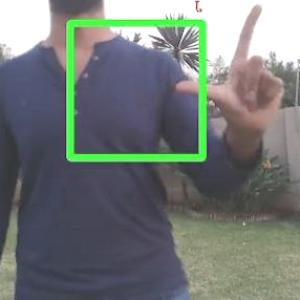land_hand: (178, 0, 290, 131)
